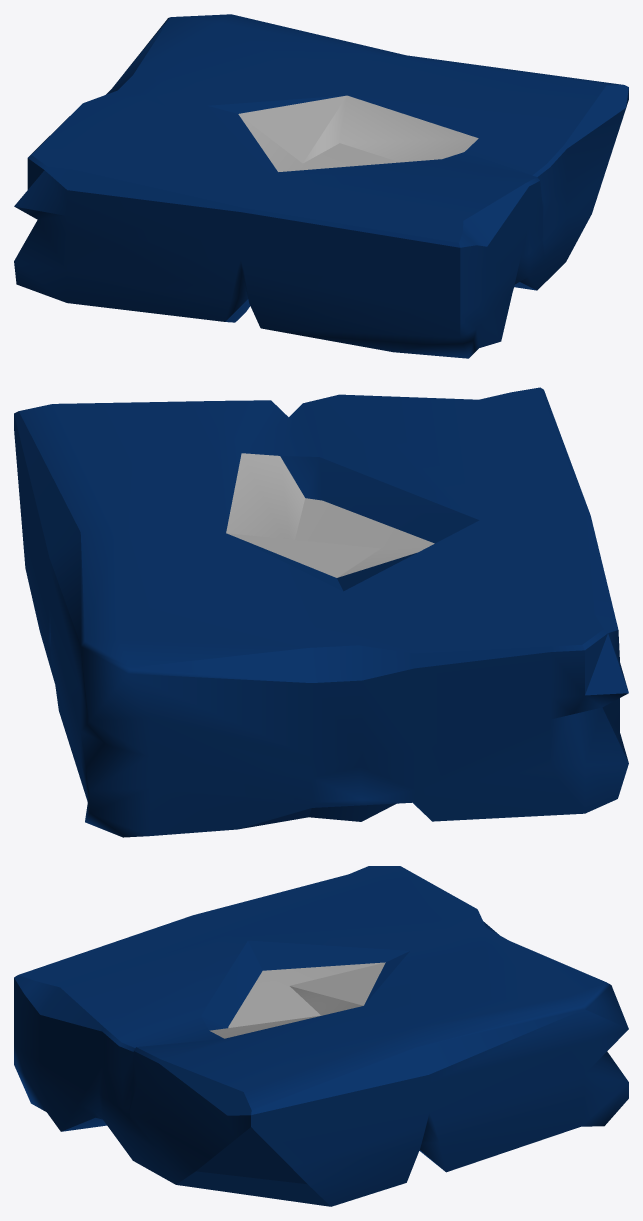
The model's file is TestModel.fbx.
3 views of the same model, one above another, from view 1: azimuth 30°, elevation 25°; view 2: azimuth 150°, elevation 25°; view 3: azimuth 270°, elevation 25° (orthographic). The views are drawn at different scales.
Parts seen in each view (by area): view 1: pCube69; view 2: pCube69; view 3: pCube69.
Boxes of the visible parts, x1,y1,x2,y2 form: pCube69: [14, 14, 628, 358]; pCube69: [14, 387, 628, 837]; pCube69: [14, 866, 628, 1206].
Bounding box in the file's own units: 38.72 × 9.36 × 38.88.
